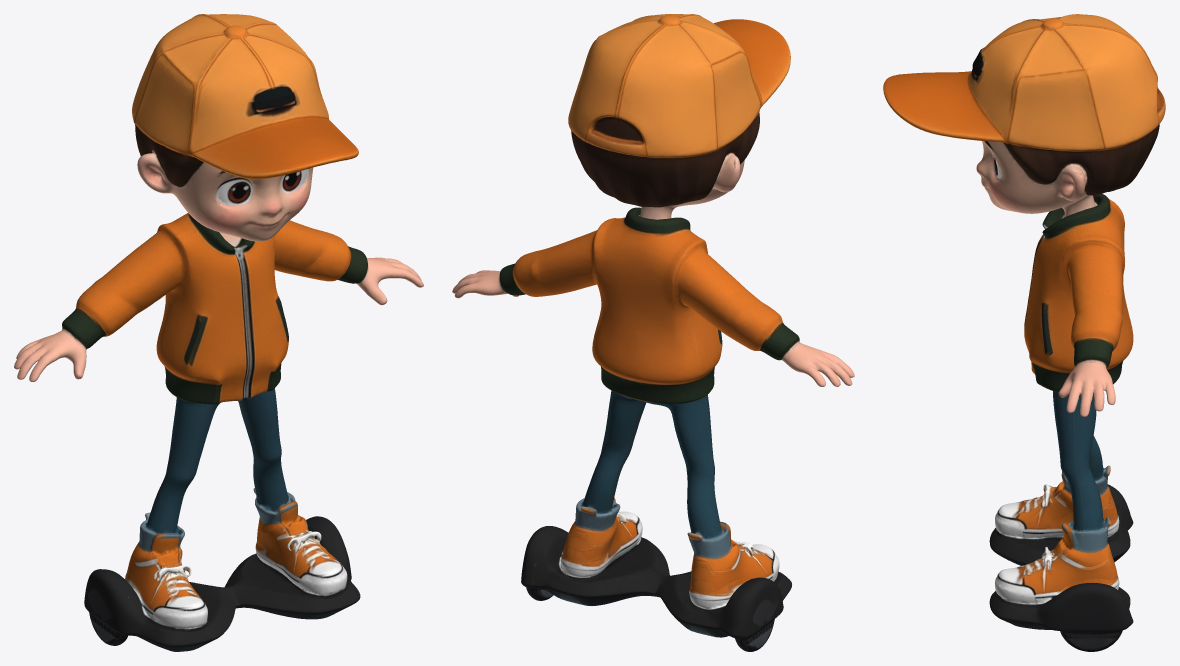
The model's file is player_game.glb.
The picture shows the model from 3 angles, left to right: view 1: azimuth 30°, elevation 25°; view 2: azimuth 150°, elevation 25°; view 3: azimuth 270°, elevation 25°; orthographic projection. The views are drawn at different scales.
Size of the model in its own units: 1.33 by 1.9 by 0.8372.
Materials: 1 (1 with a texture image).
